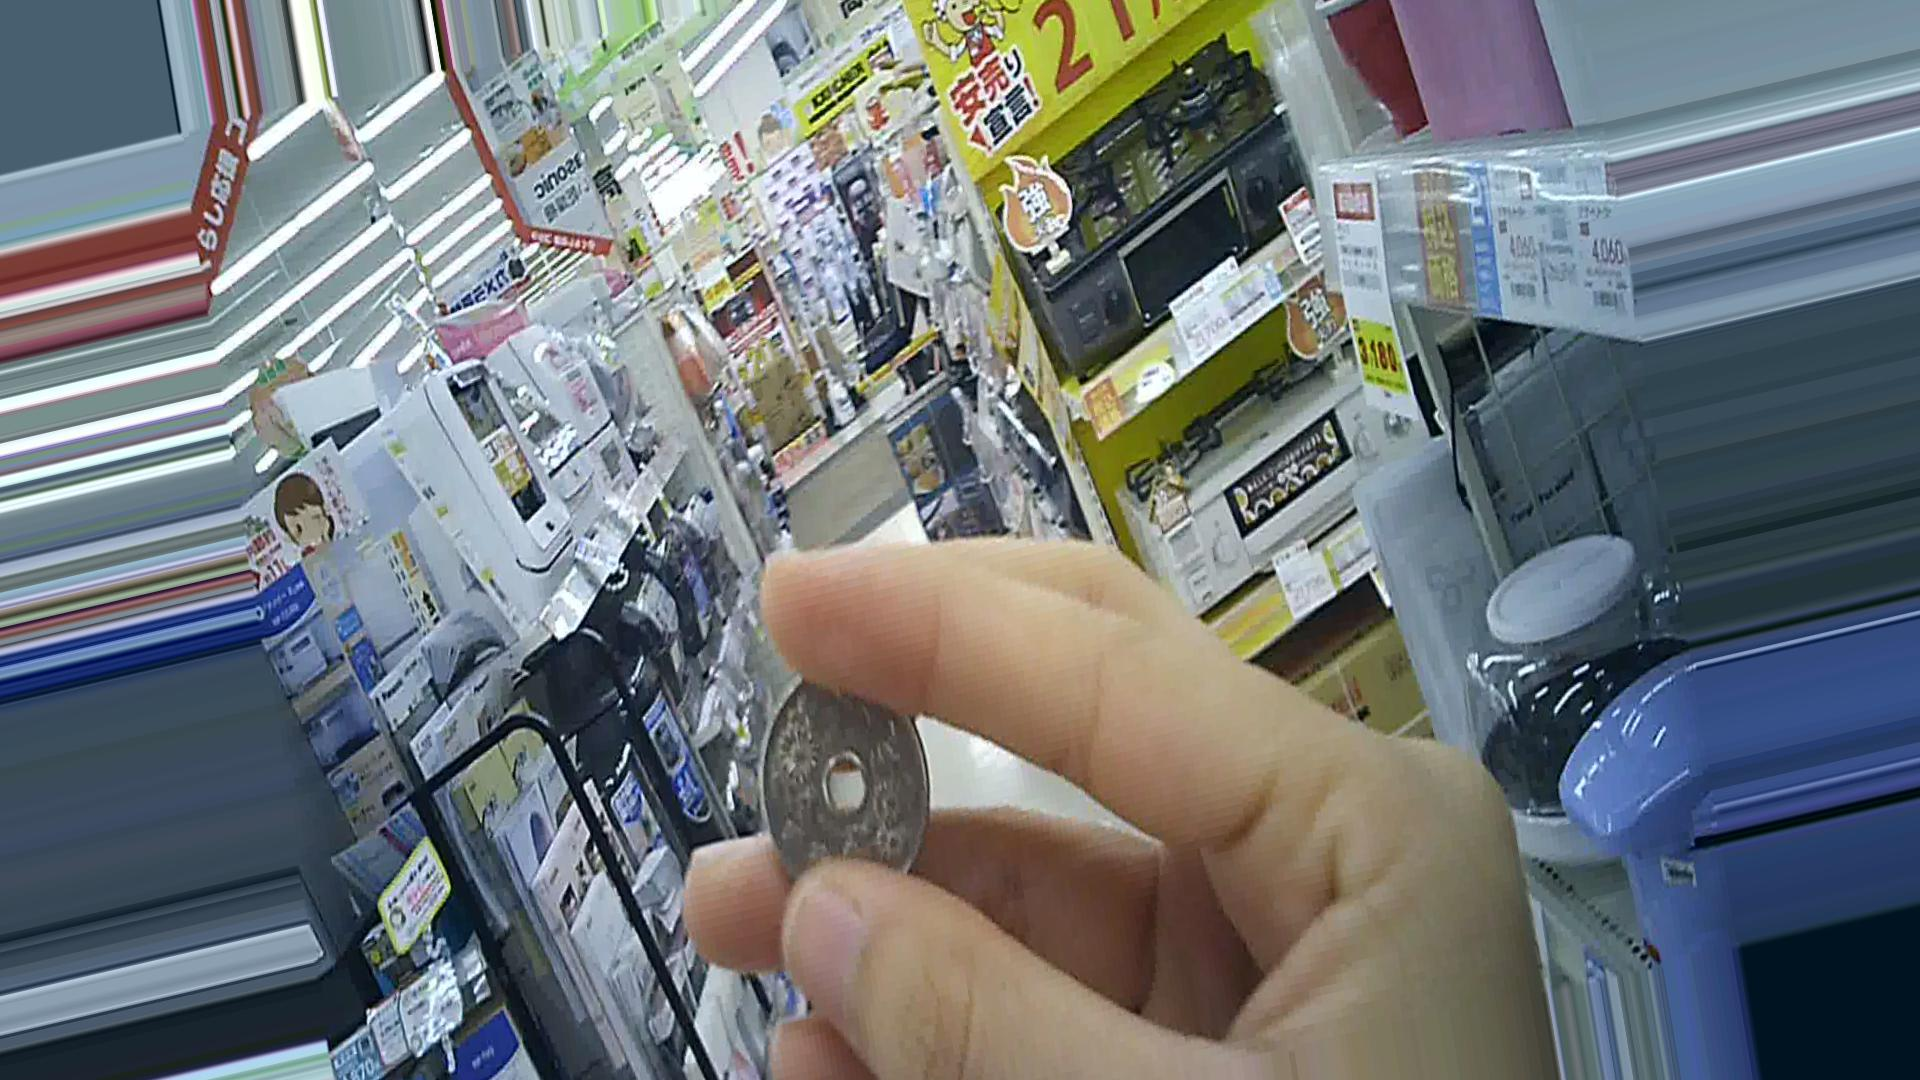50 Yen: (744, 665, 940, 899)
